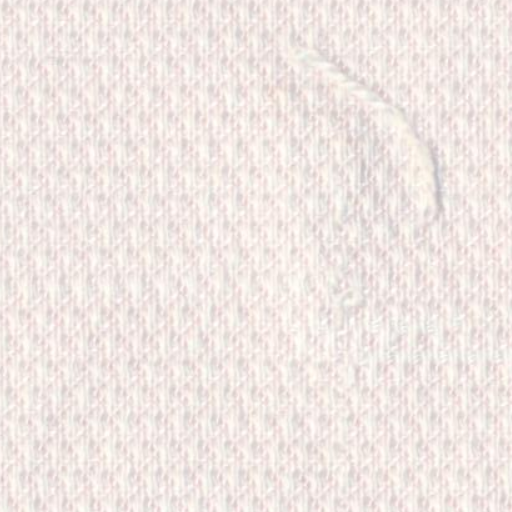DuanSha: (280, 28, 456, 239)
